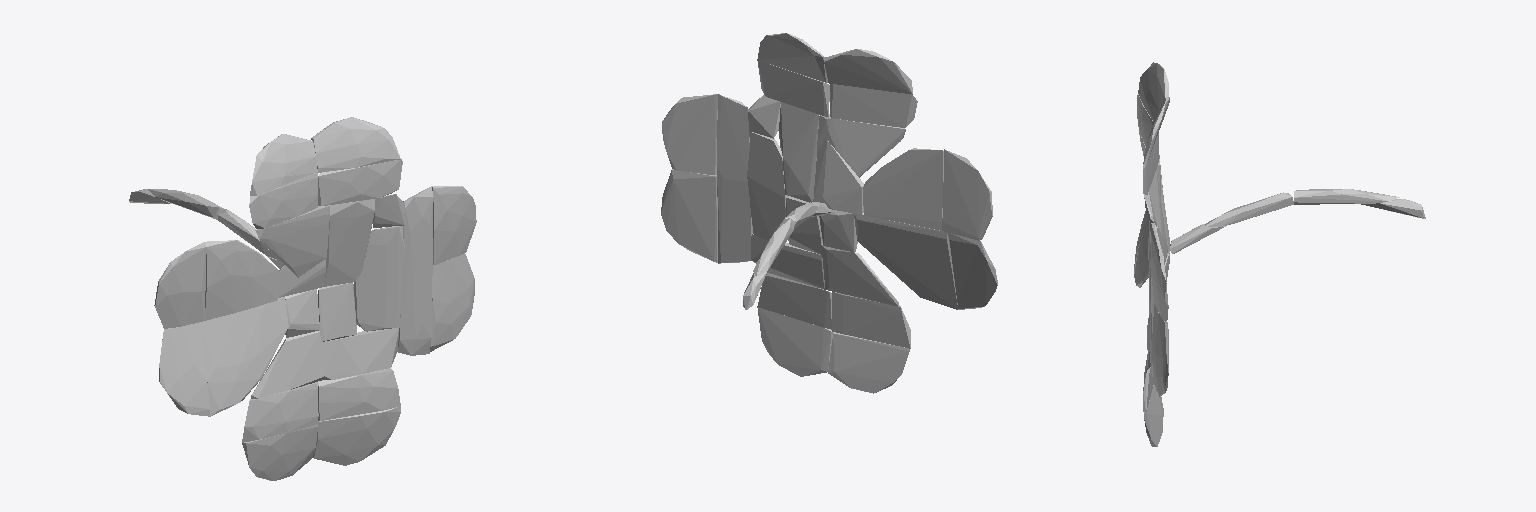
The model's file is leaf_2_align_vhacd.obj.
3 views of the same model, side by side, from view 1: azimuth 30°, elevation 25°; view 2: azimuth 150°, elevation 25°; view 3: azimuth 270°, elevation 25° (orthographic).
Parts seen in each view (by area): view 1: convex_13, convex_15, convex_18, convex_26, convex_12, convex_7, convex_10, convex_17, convex_20, convex_16, convex_11, convex_19 (+14 smaller); view 2: convex_13, convex_15, convex_18, convex_16, convex_21, convex_8, convex_10, convex_17, convex_26, convex_20, convex_9, convex_19 (+13 smaller); view 3: convex_1, convex_16, convex_3, convex_5, convex_21, convex_10, convex_13, convex_0, convex_2, convex_20.
Boxes of the visible parts, box(x1,y1,x2,y2) form: convex_13: box(199, 297, 288, 416); convex_15: box(398, 186, 433, 355); convex_18: box(205, 240, 278, 320); convex_26: box(354, 226, 404, 331); convex_12: box(159, 323, 209, 416); convex_7: box(311, 117, 400, 172); convex_10: box(313, 406, 400, 465); convex_17: box(154, 242, 206, 328); convex_20: box(324, 199, 374, 286); convex_16: box(430, 253, 474, 351); convex_11: box(317, 368, 400, 420); convex_19: box(255, 205, 329, 277); convex_13: box(854, 214, 958, 309); convex_15: box(717, 94, 752, 263); convex_18: box(863, 148, 943, 230); convex_16: box(661, 169, 717, 262); convex_21: box(662, 94, 719, 174); convex_8: box(828, 332, 909, 393); convex_10: box(757, 307, 832, 376); convex_17: box(942, 149, 992, 240); convex_26: box(747, 131, 787, 240); convex_20: box(779, 102, 818, 202); convex_9: box(832, 292, 910, 348); convex_19: box(817, 114, 905, 177); convex_1: box(1294, 189, 1399, 204); convex_16: box(1152, 304, 1168, 396); convex_3: box(1205, 192, 1293, 226); convex_5: box(1138, 62, 1168, 121); convex_21: box(1150, 223, 1168, 321); convex_10: box(1144, 385, 1163, 446); convex_13: box(1134, 219, 1148, 287); convex_0: box(1361, 199, 1425, 218); convex_2: box(1170, 224, 1225, 253); convex_20: box(1149, 170, 1167, 264).
Size of the model in its own units: 0.1056 by 0.1067 by 0.0819.